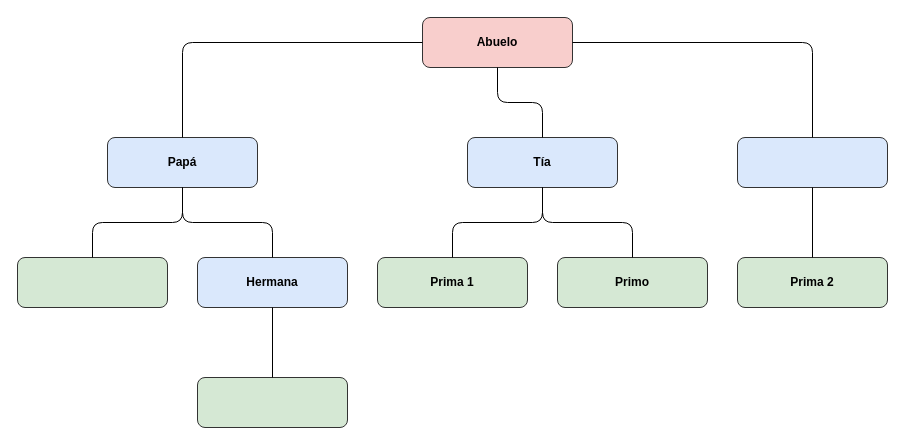
The diagram is 905 pixels wide and 445 high, and some of its shapes have lost their labels. Here are the shapes that lost their labels. From the top down, the centre of each, then its label:
(812,162): Tío
(92,282): Yo
(272,402): Sobrino
